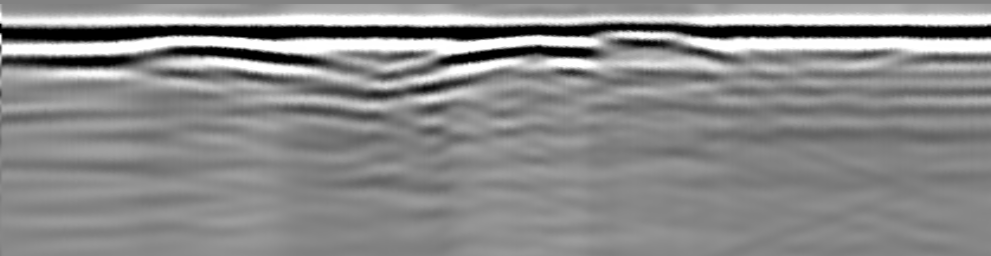pipe: (584, 23, 705, 53)
steel: (80, 41, 319, 68), (442, 40, 601, 63)
